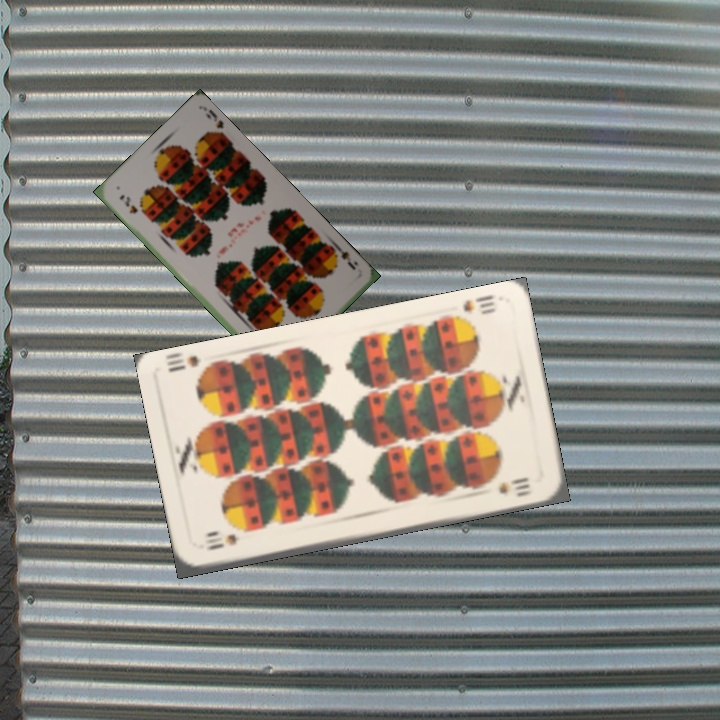S10: (459, 291, 499, 318), (201, 531, 242, 553)
S9: (328, 240, 358, 273), (115, 190, 141, 216)
